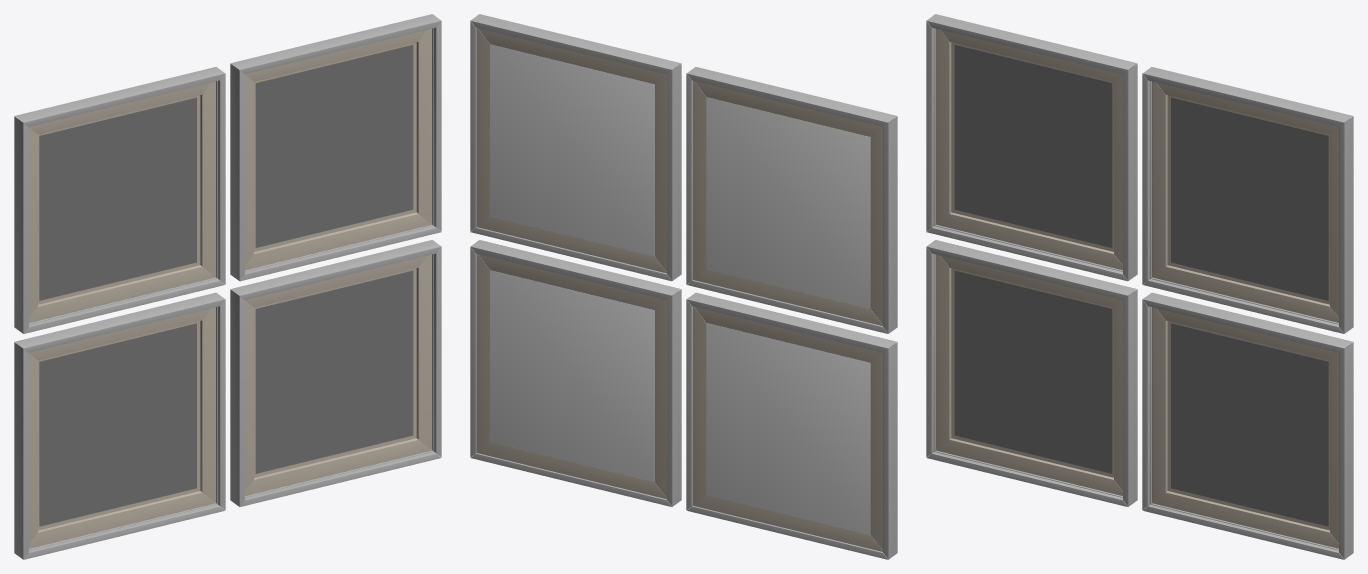
The model's file is Cuadros.FBX.
3 views of the same model, side by side, from view 1: azimuth 30°, elevation 25°; view 2: azimuth 150°, elevation 25°; view 3: azimuth 330°, elevation 25° (orthographic).
Parts seen in each view (by area): view 1: Object069; view 2: Object069; view 3: Object069.
Boxes of the visible parts, left/top/right/bottom form: Object069: left=14, top=14, right=441, bottom=559; Object069: left=470, top=14, right=897, bottom=559; Object069: left=926, top=14, right=1353, bottom=559.
Size of the model in its own units: 24.44 by 24.42 by 0.9309.
